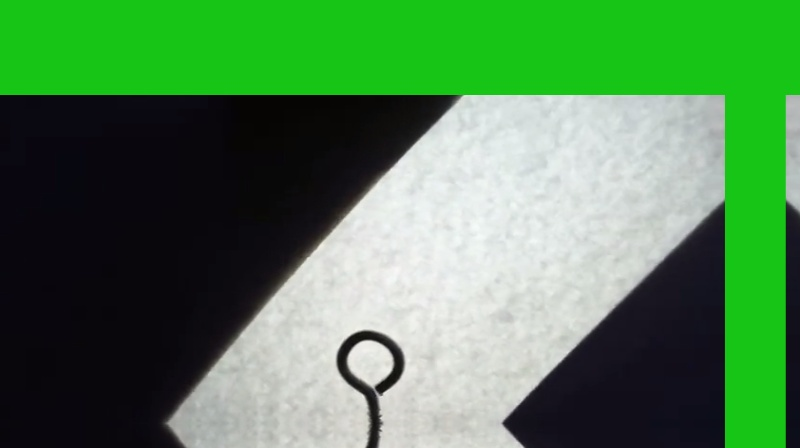O001: (334, 327, 411, 447)
